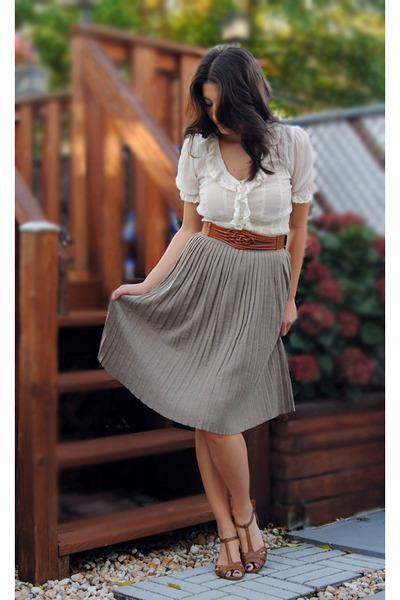shirt: (176, 110, 316, 238)
shoe: (214, 516, 272, 580)
skirt: (98, 235, 298, 436)
